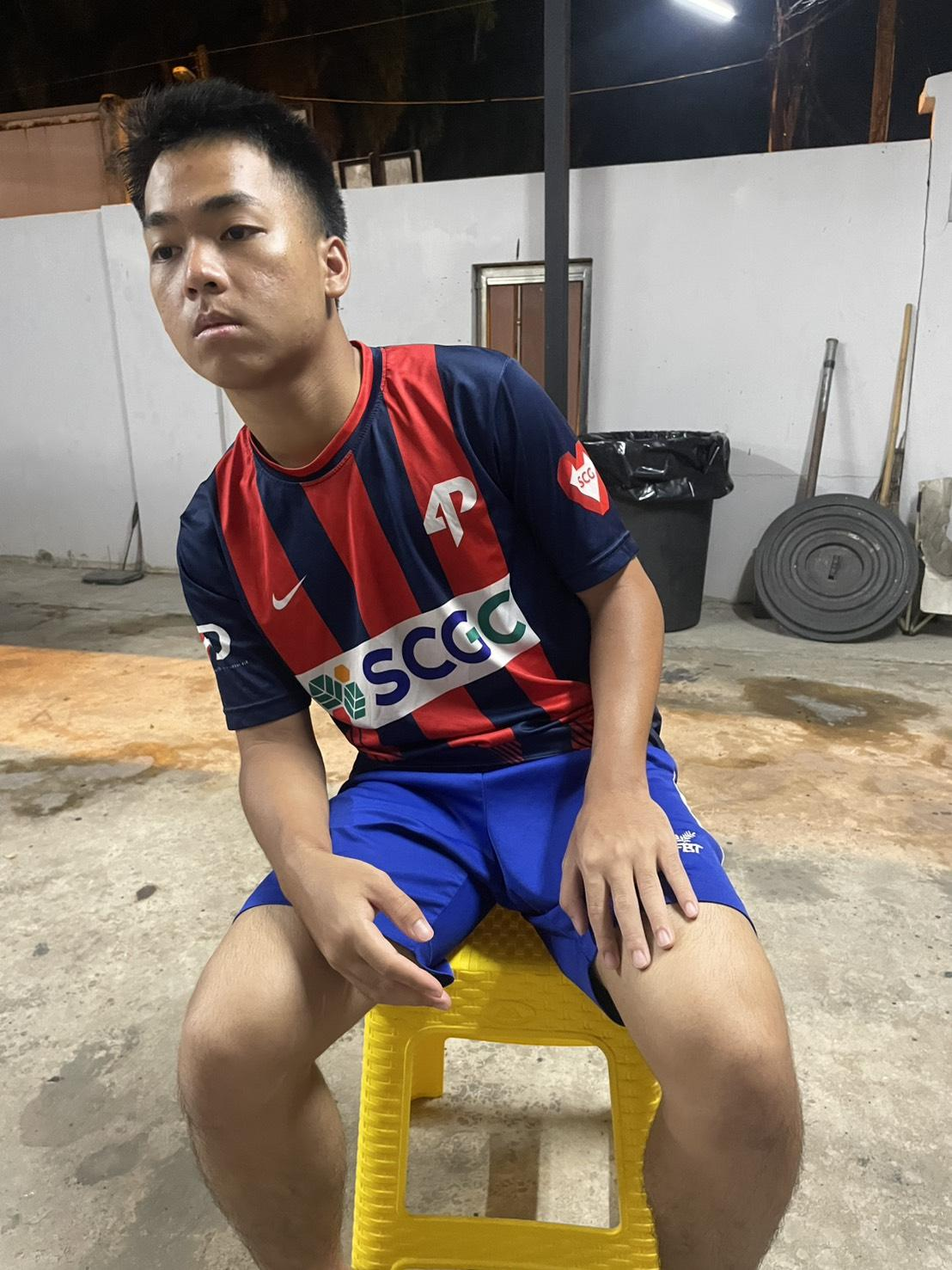BadPosture: (115, 79, 730, 770), (121, 79, 672, 788), (117, 80, 638, 770)
